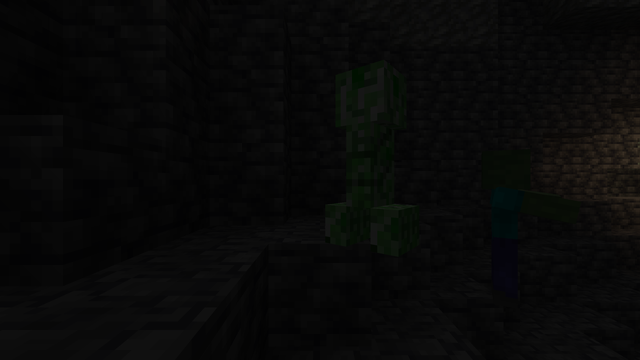creepers: (338, 53, 413, 251)
zombies: (468, 153, 544, 309)
